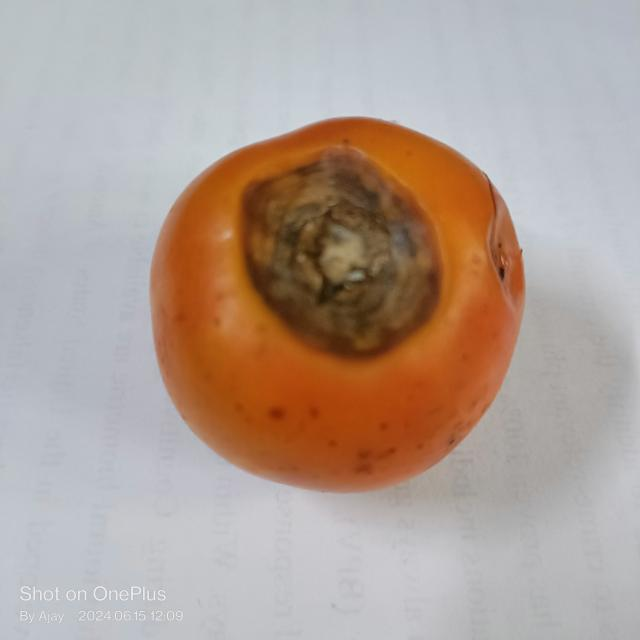Anthrocnose: (237, 147, 448, 369)
